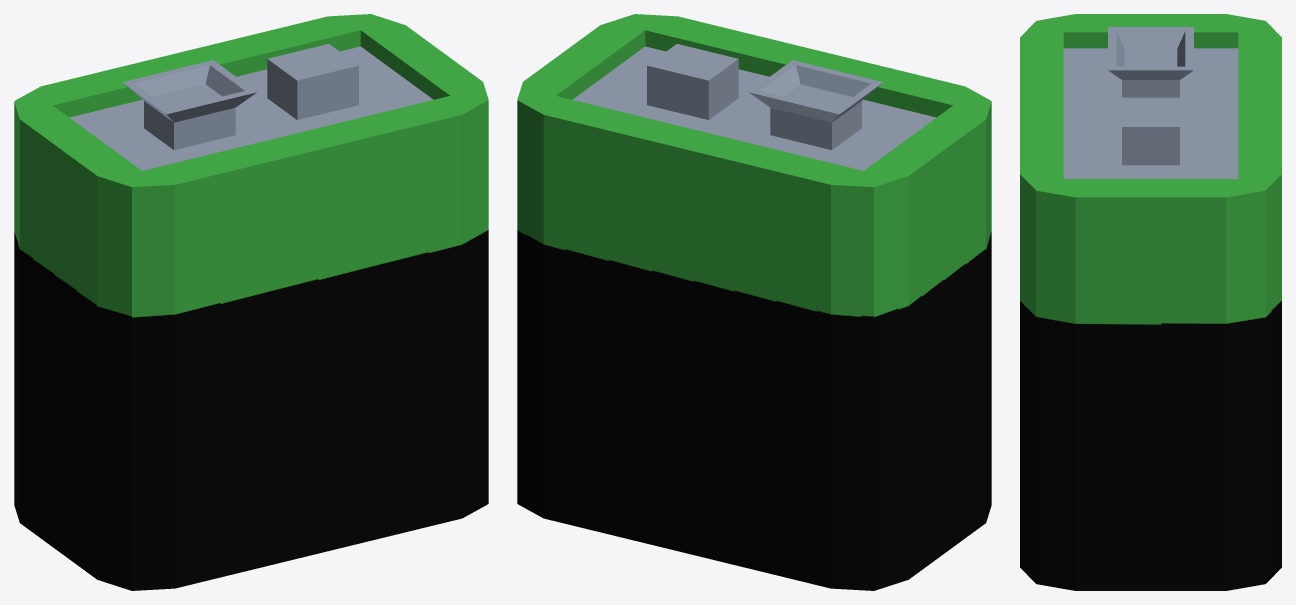
Rendered from Battery9v.fbx.
3 views of the same model, side by side, from view 1: azimuth 30°, elevation 25°; view 2: azimuth 150°, elevation 25°; view 3: azimuth 270°, elevation 25° (orthographic). The views are drawn at different scales.
Parts seen in each view (by area): view 1: Battery; view 2: Battery; view 3: Battery.
Boxes of the visible parts, x1,y1,x2,y2 form: Battery: [14, 14, 488, 590]; Battery: [517, 14, 991, 590]; Battery: [1020, 14, 1281, 590].
Bounding box in the file's own units: 200 × 214 × 121.
1 material, 1 textured.
